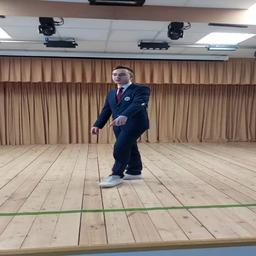person: (90, 65, 151, 188)
